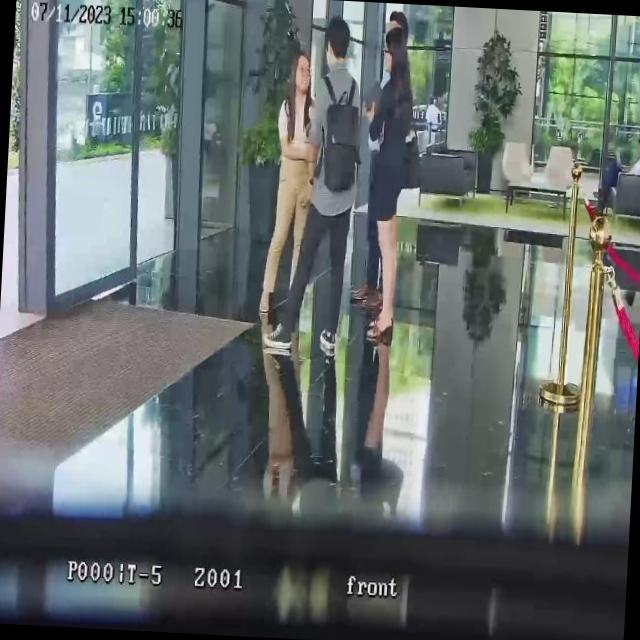person: (265, 12, 371, 361), (353, 8, 426, 348), (258, 46, 322, 318), (630, 135, 640, 175)
